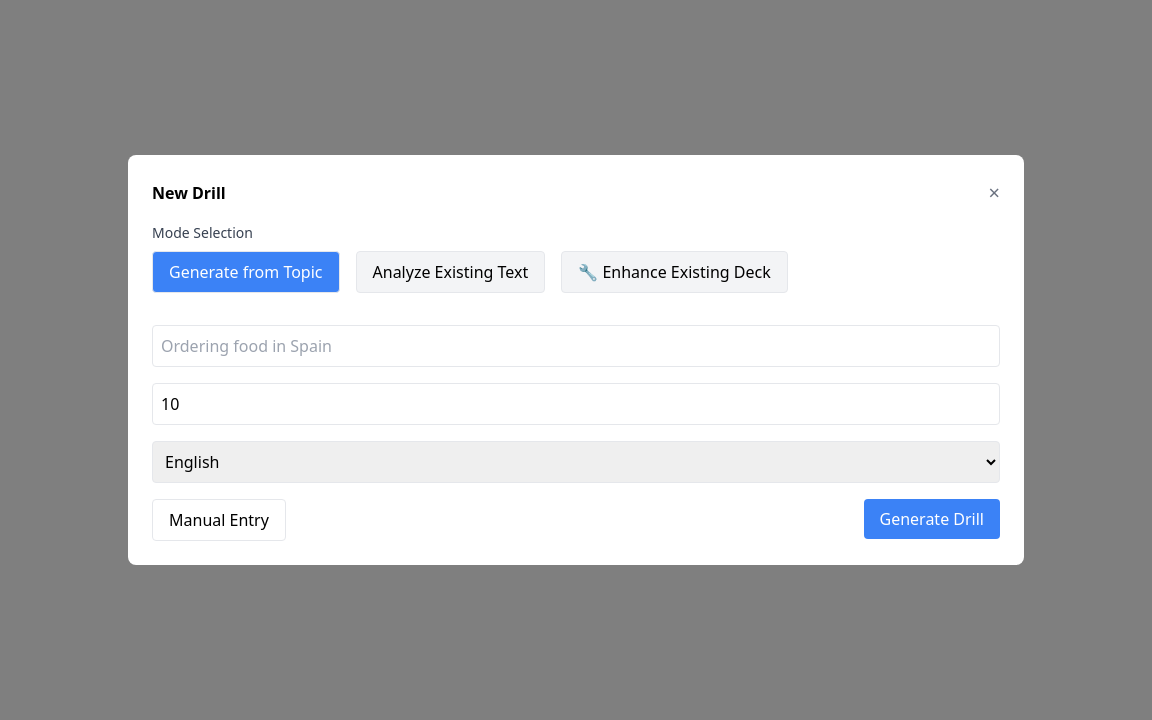
Test: Wizard Flow Guard (PN-063) › Error Handling › falls back to manual mode when OpenAI fails
In the field with placeholder "Ordering food in Spain": (576, 346) top-left (152, 325), bottom-right (1000, 367), type "Test topic"
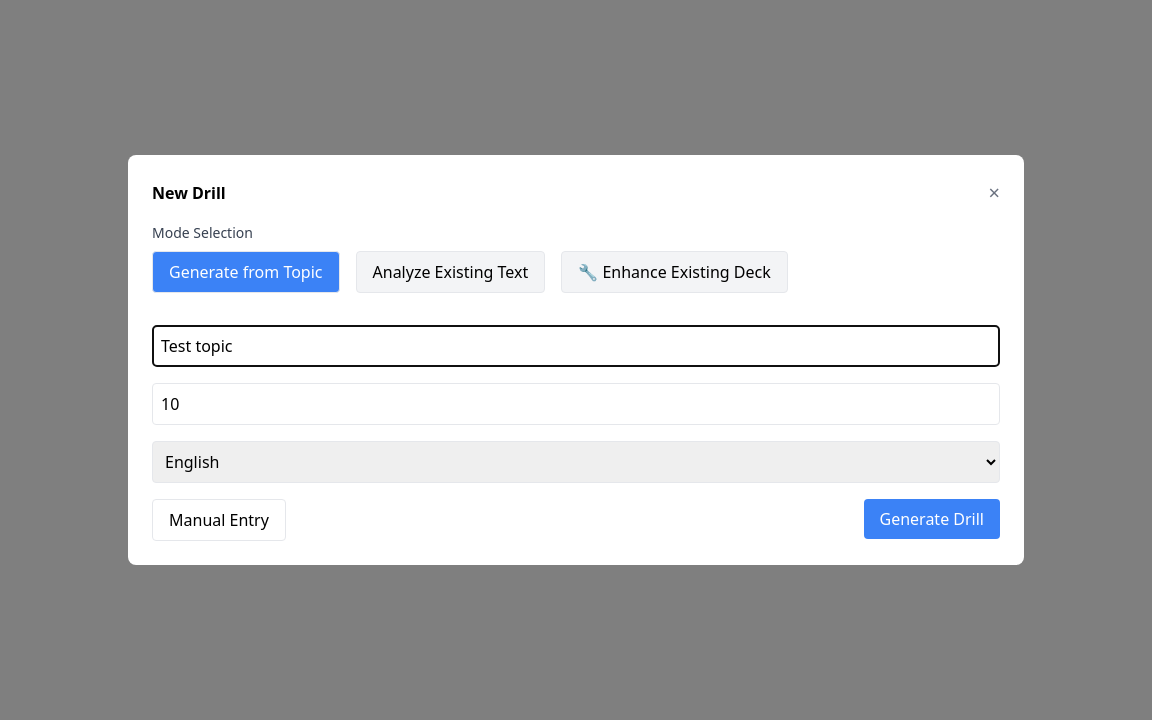
Click the button "Generate Drill": (932, 519) top-left (864, 499), bottom-right (1000, 539)
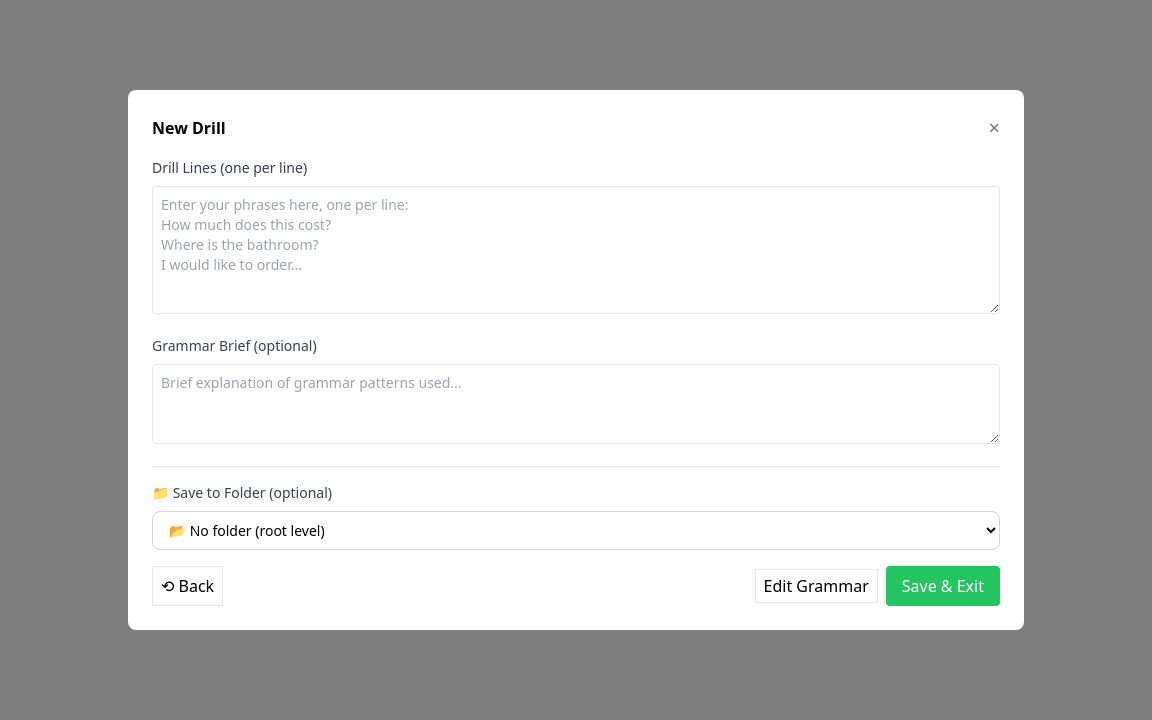
Expected: the text "Drill Lines (one per line)" is shown, top-left (152, 158), bottom-right (307, 177)
Expected: the text box with placeholder "Enter your phrases here" is shown, top-left (152, 186), bottom-right (1000, 314)
